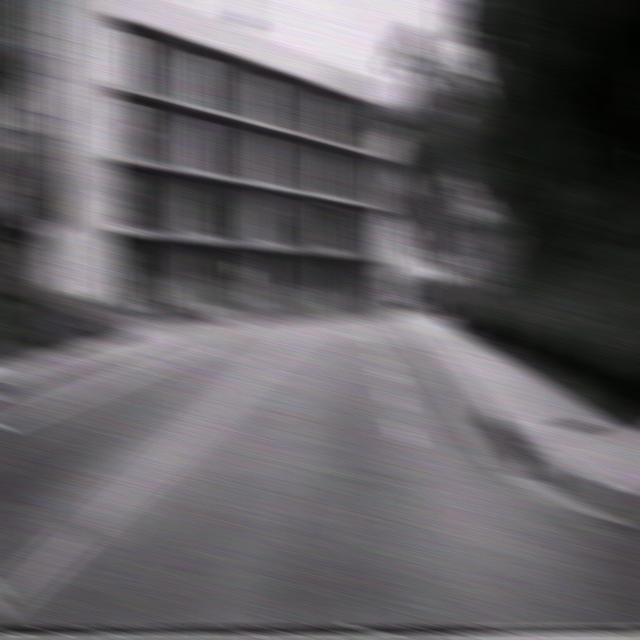stop_sign: (435, 224, 462, 259)
